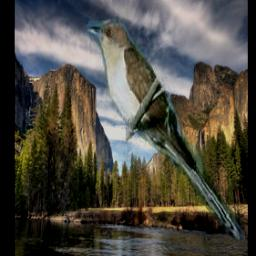Cuckoo: (83, 16, 246, 248)
